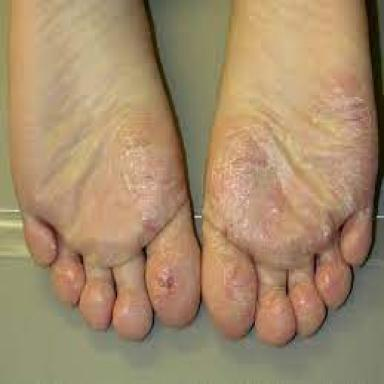eczema: (204, 72, 377, 310), (120, 130, 200, 326)
